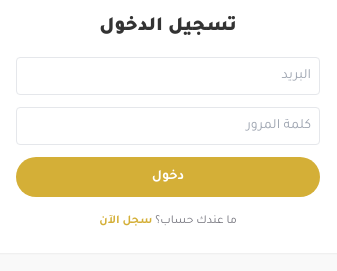
Test: shows error message on login failure
The image size is (337, 271).
Type "x@b.c" into the field with test id "input-email". click: point(168, 76)
box: [16,57,320,95]
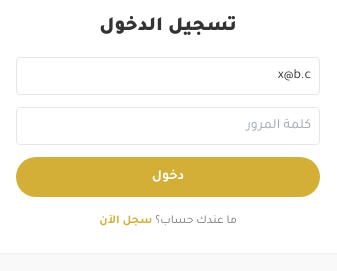
Type "password1234" into the password field with test id "input-password". click: point(168, 126)
box: [16,107,320,145]
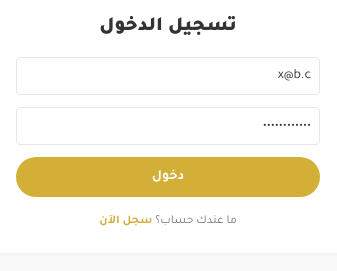
Click the button with test id "login-submit". click: point(168, 177)
box: [16,157,320,197]
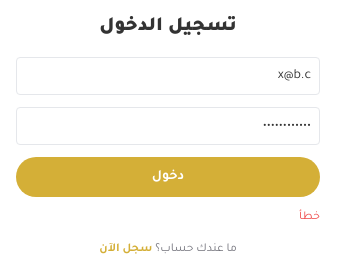
Check: the text "خطأ" is shown, box [299,211,320,223]
